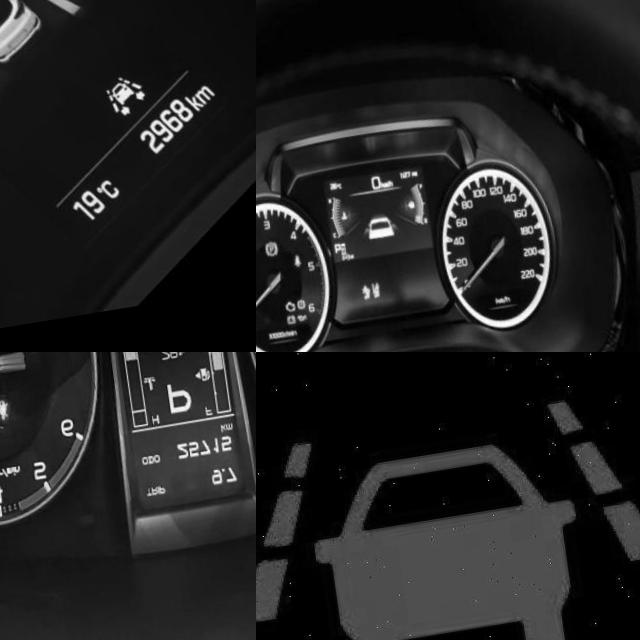Seat Belt: (284, 262, 292, 275)
